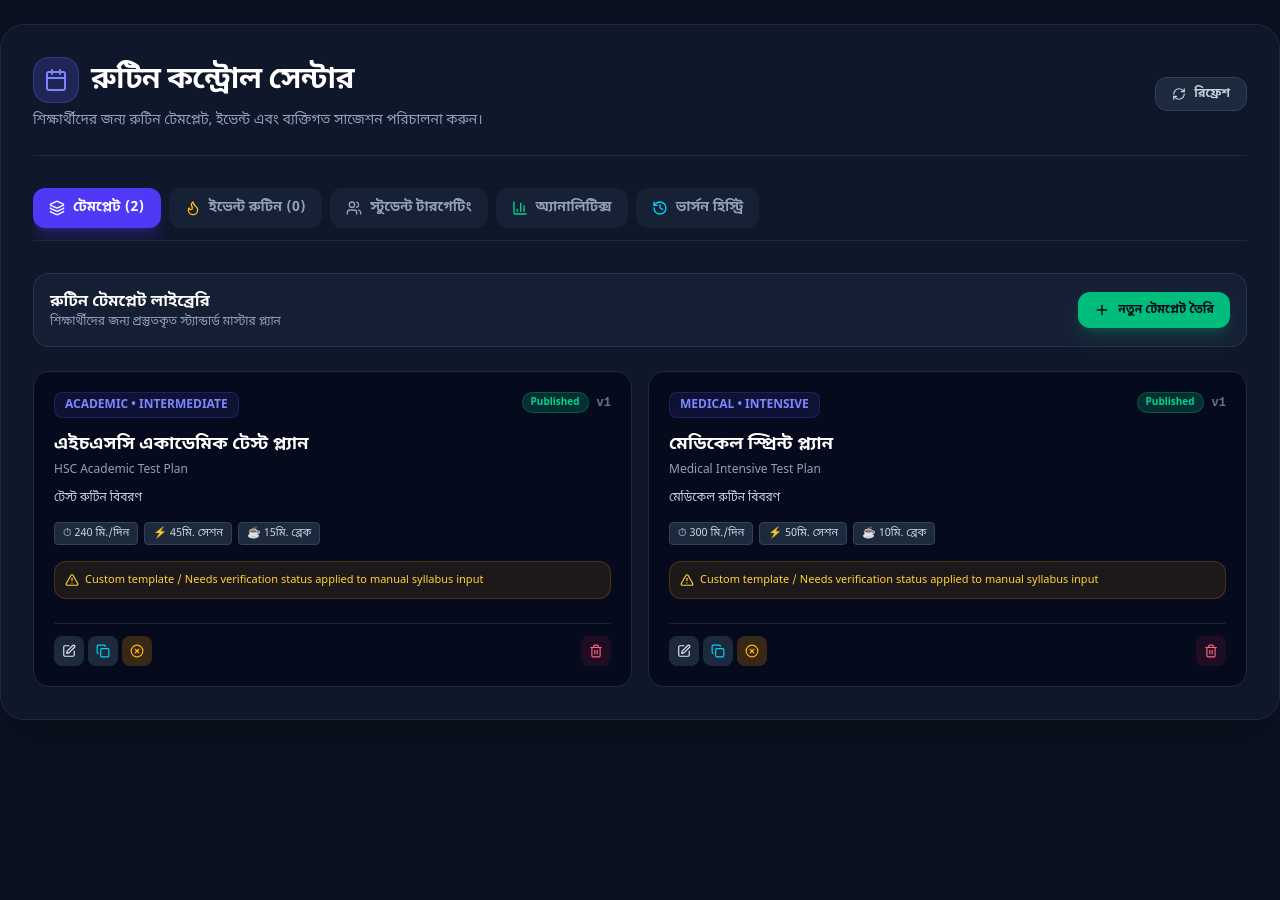
Test: Admin Routine Template Delete Flow › 6. Non-admin user cannot delete and receives "এই টেমপ্লেট মুছে ফেলার অনুমতি আপনার নেই।"
This screenshot has width=1280, height=900.
Check: the heading "এইচএসসি একাডেমিক টেস্ট প্ল্যান" is shown, box [54,432,309,456]
Click the 1st button named "টেমপ্লেট মুছুন": [596, 651] box [581,636,611,666]
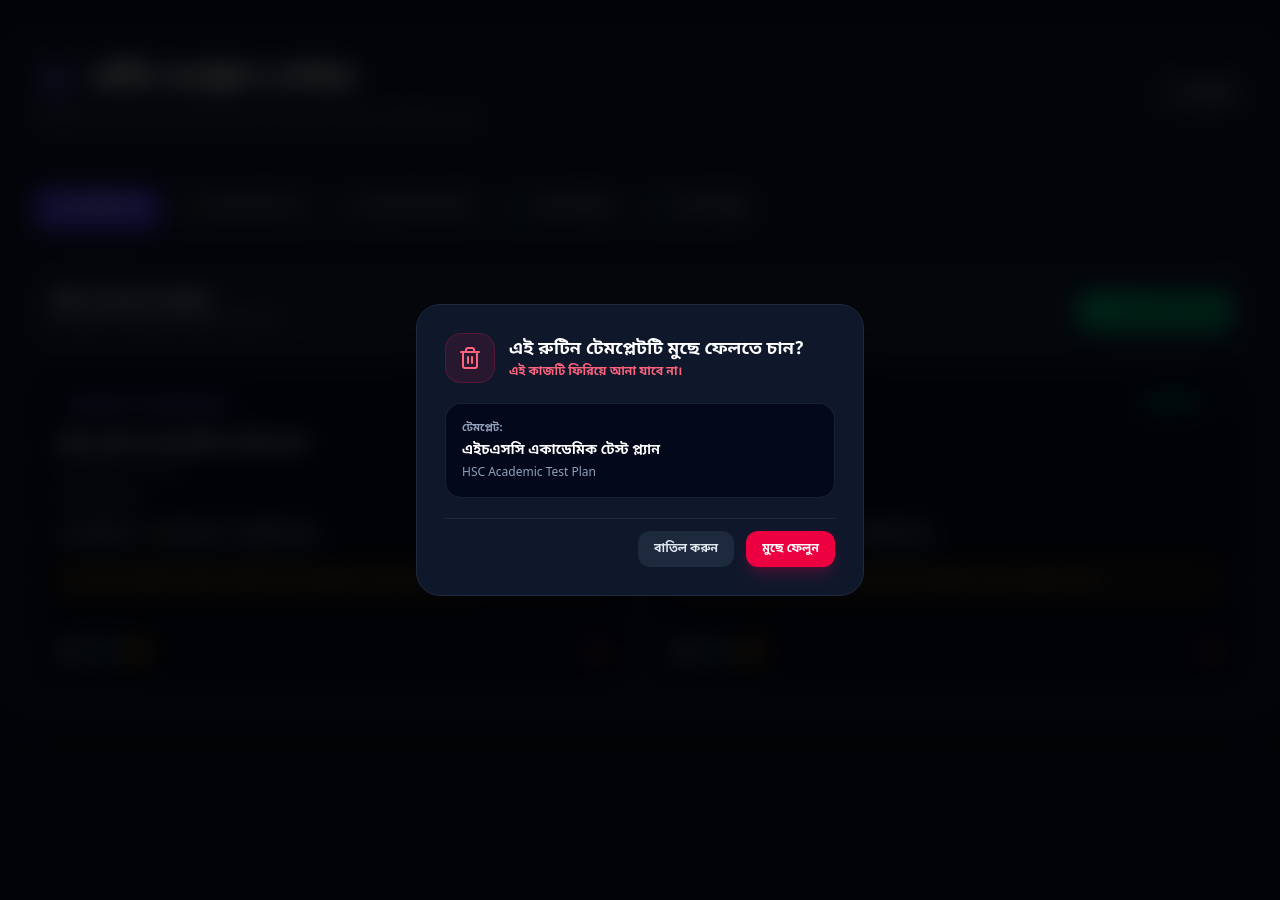
Click the button "মুছে ফেলুন": [791, 549] box [746,531,835,567]
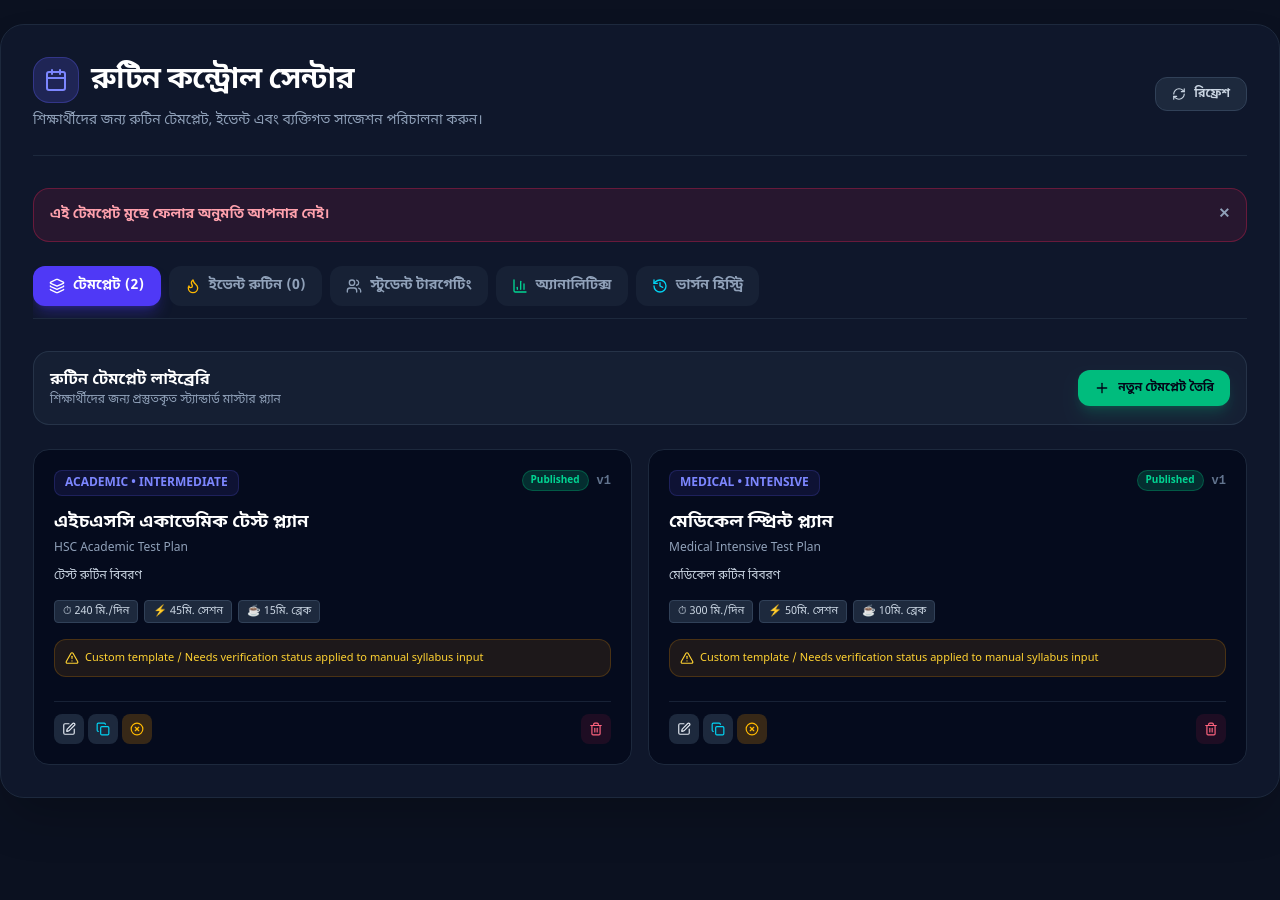
Check: the text "এই টেমপ্লেট মুছে ফেলার অনুমতি আপনার নেই।" is shown, box [50,205,330,225]
